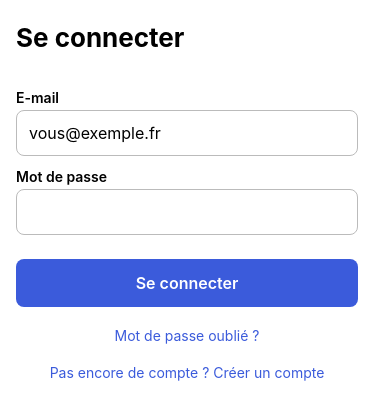
Inscription (mobile) › refuse un mot de passe trop court ou sans chiffre
This screenshot has width=375, height=408.
Click the link with test id "to-register": (187, 372) left=50, top=364, right=324, bottom=380
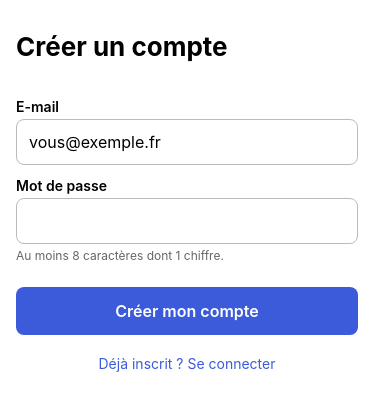
Now the heading "Créer un compte" is shown, box left=16, top=30, right=228, bottom=62
In the field with test id "email": (187, 142) left=16, top=118, right=358, bottom=164, type "alice@example.com"
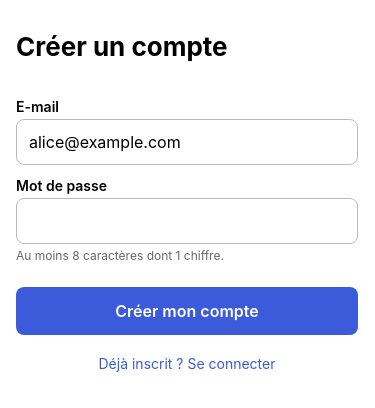
In the password field with test id "password": (187, 220) left=16, top=198, right=358, bottom=244, type "abc1234"
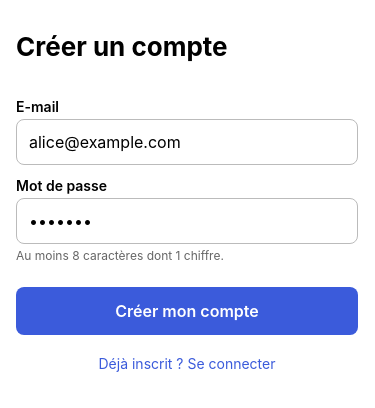
Click the button with test id "submit": (187, 310) left=16, top=286, right=358, bottom=334
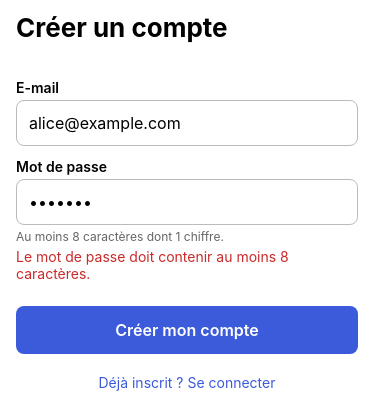
Now the text with test id "password-error" shows "au moins 8 caractères", box left=16, top=248, right=293, bottom=282
In the password field with test id "password": (187, 202) left=16, top=178, right=358, bottom=224, type "sanschiffre"
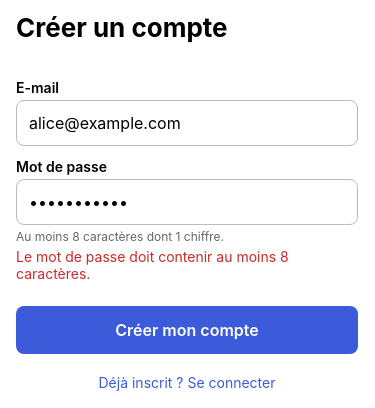
Click the button with test id "submit": (187, 330) left=16, top=306, right=358, bottom=354
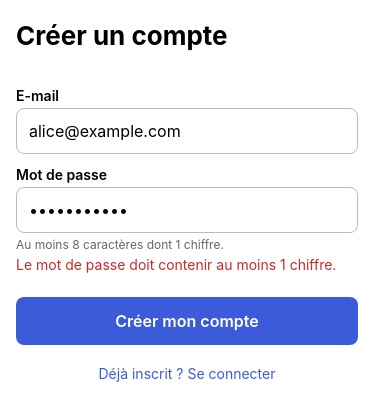
Now the text with test id "password-error" shows "1 chiffre", box left=16, top=256, right=336, bottom=273
